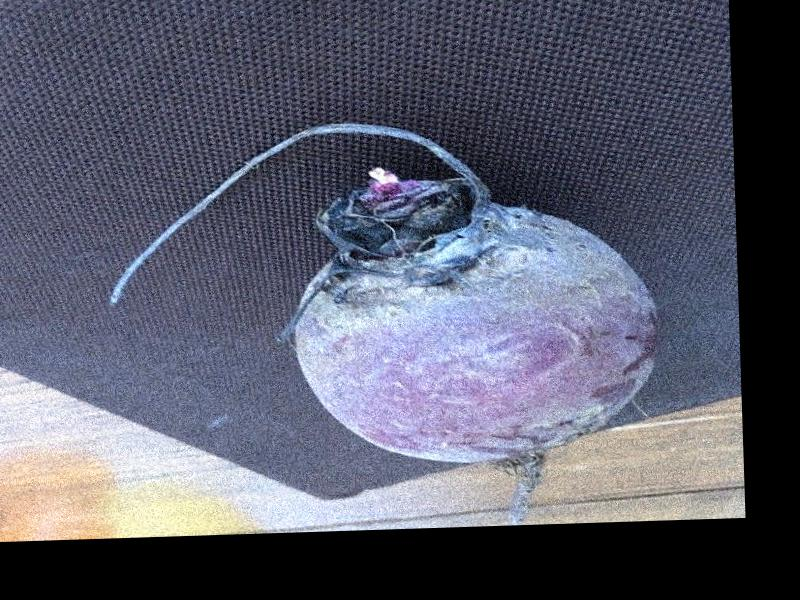Beet: (103, 113, 666, 536)
